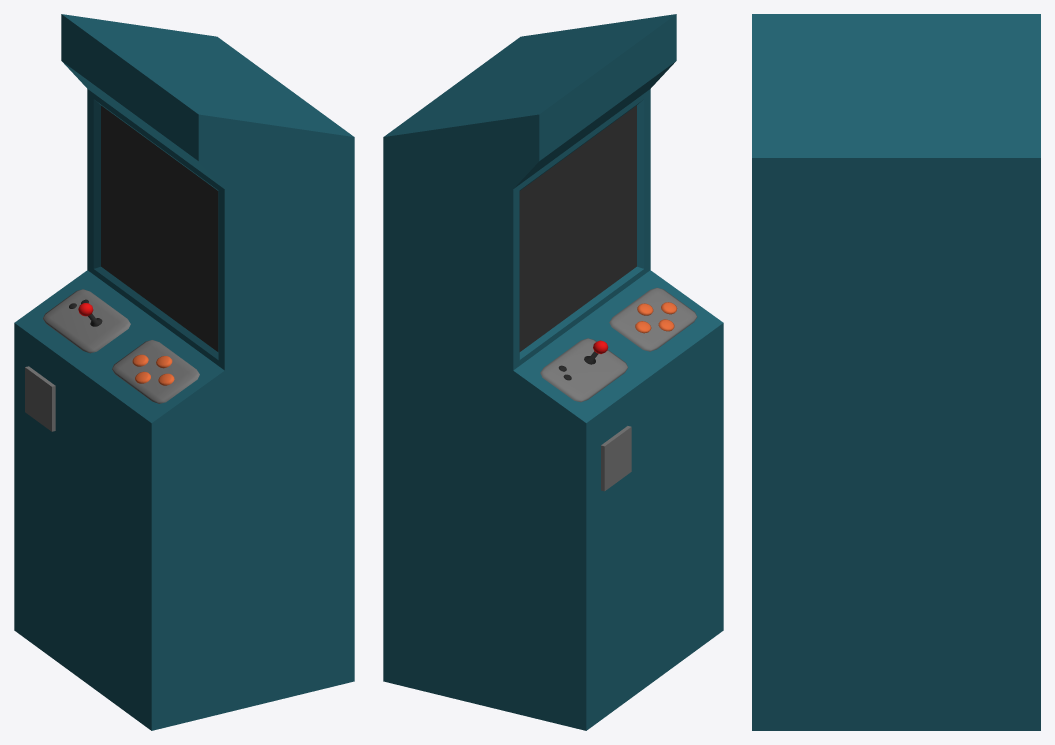
File: arcadeMachine.fbx
3 views of the same model, side by side, from view 1: azimuth 30°, elevation 25°; view 2: azimuth 150°, elevation 25°; view 3: azimuth 270°, elevation 25° (orthographic). The views are drawn at different scales.
Parts seen in each view (by area): view 1: Arcade Machine; view 2: Arcade Machine; view 3: Arcade Machine.
Part boxes in pixels (box(x1,y1,x2,y2)): Arcade Machine: box(14, 14, 354, 730); Arcade Machine: box(383, 14, 723, 730); Arcade Machine: box(752, 14, 1040, 730).
Bounding box in the file's own units: 66.91 × 58.21 × 163.
